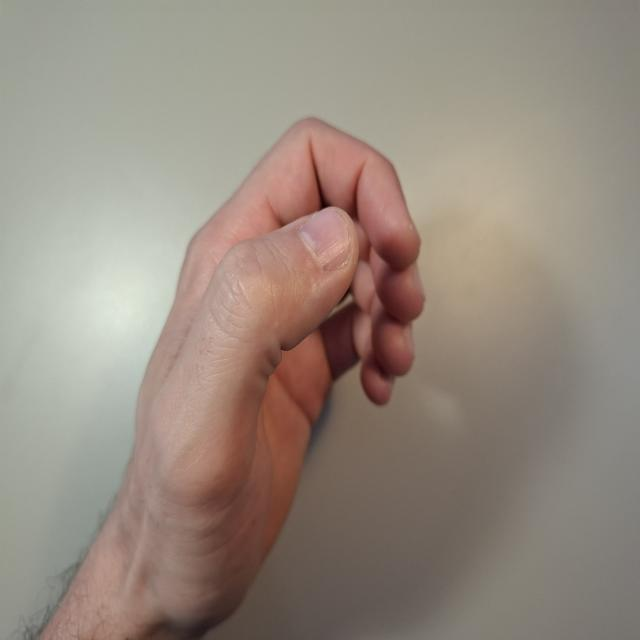glove_off: (119, 114, 427, 640)
